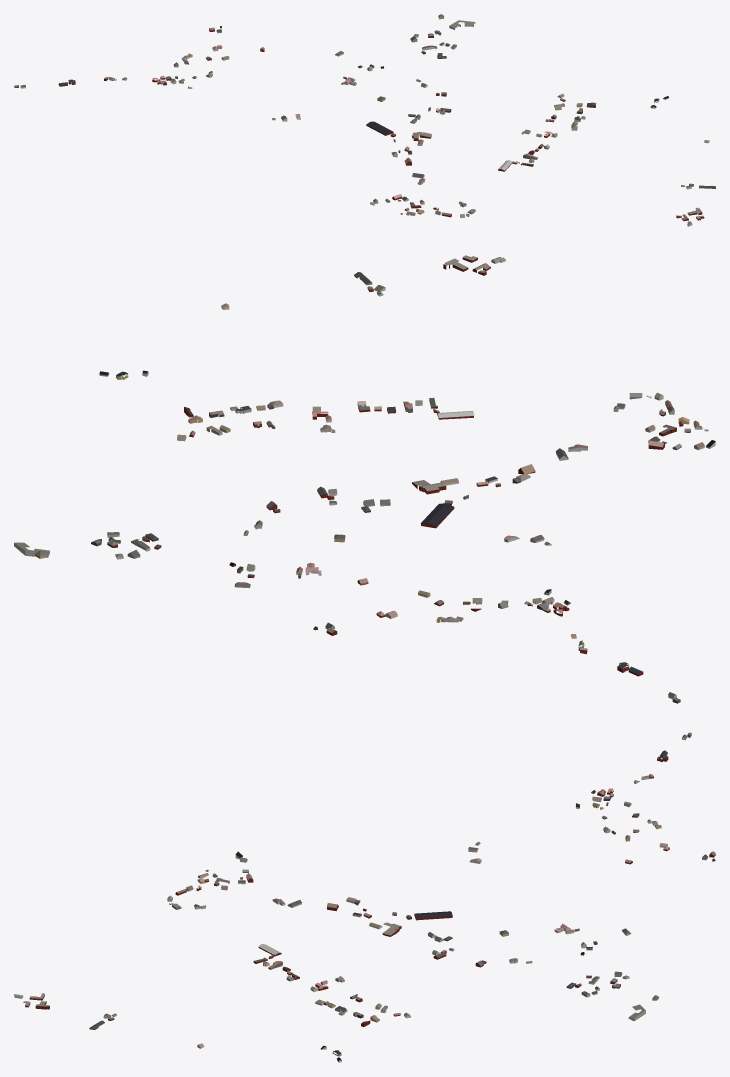
Rendered from buildings.glb.
3 renders of one model, top to bottom at view 1: azimuth 30°, elevation 25°; view 2: azimuth 150°, elevation 25°; view 3: azimuth 270°, elevation 25°, orthographic. The views are drawn at different scales.
Visible parts, largest first — view 1: buildings; view 2: buildings; view 3: buildings.
Part boxes in pixels (x1,y1,x2,y2): buildings: (14,14,715,226); buildings: (14,255,715,703); buildings: (14,732,715,1062).
Bounding box in the file's own units: 1364 × 97.64 × 1368.
